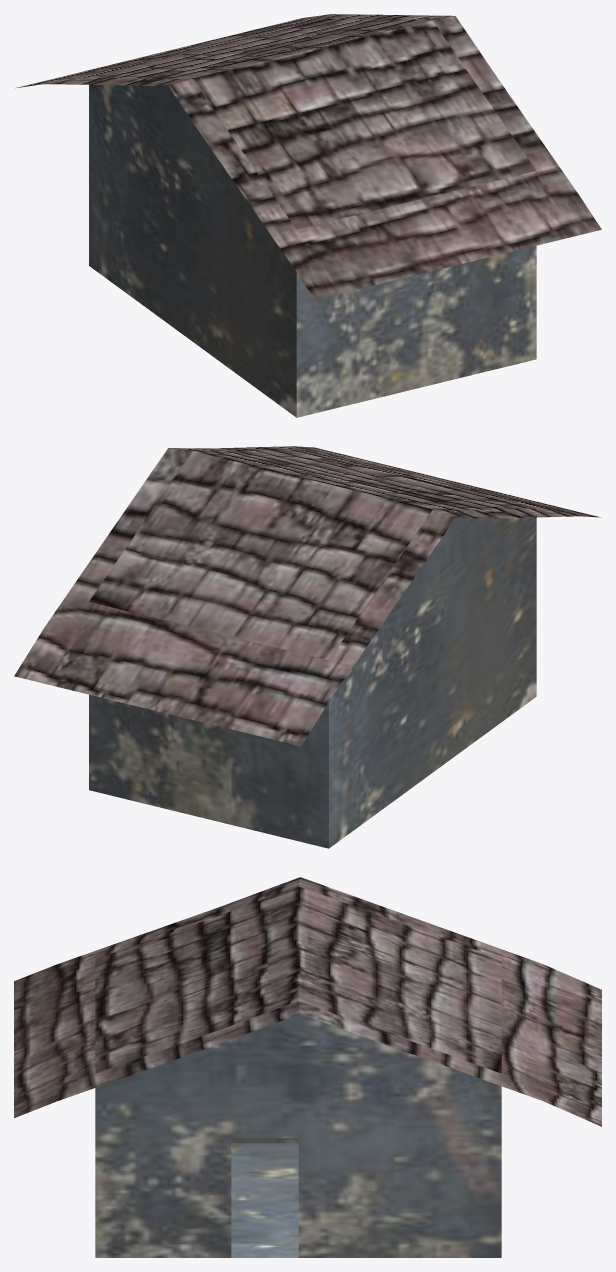
The model's file is kuca.glb.
3 views of the same model, one above another, from view 1: azimuth 30°, elevation 25°; view 2: azimuth 150°, elevation 25°; view 3: azimuth 270°, elevation 25° (orthographic). The views are drawn at different scales.
Visible parts, largest first — view 1: Cube; view 2: Cube; view 3: Cube.
Boxes of the visible parts, <box> form: Cube: <box>15,14,601,417</box>; Cube: <box>14,446,601,848</box>; Cube: <box>14,877,601,1257</box>.
Size of the model in its own units: 9.58 by 8.38 by 17.36.
2 materials, 2 textured.
